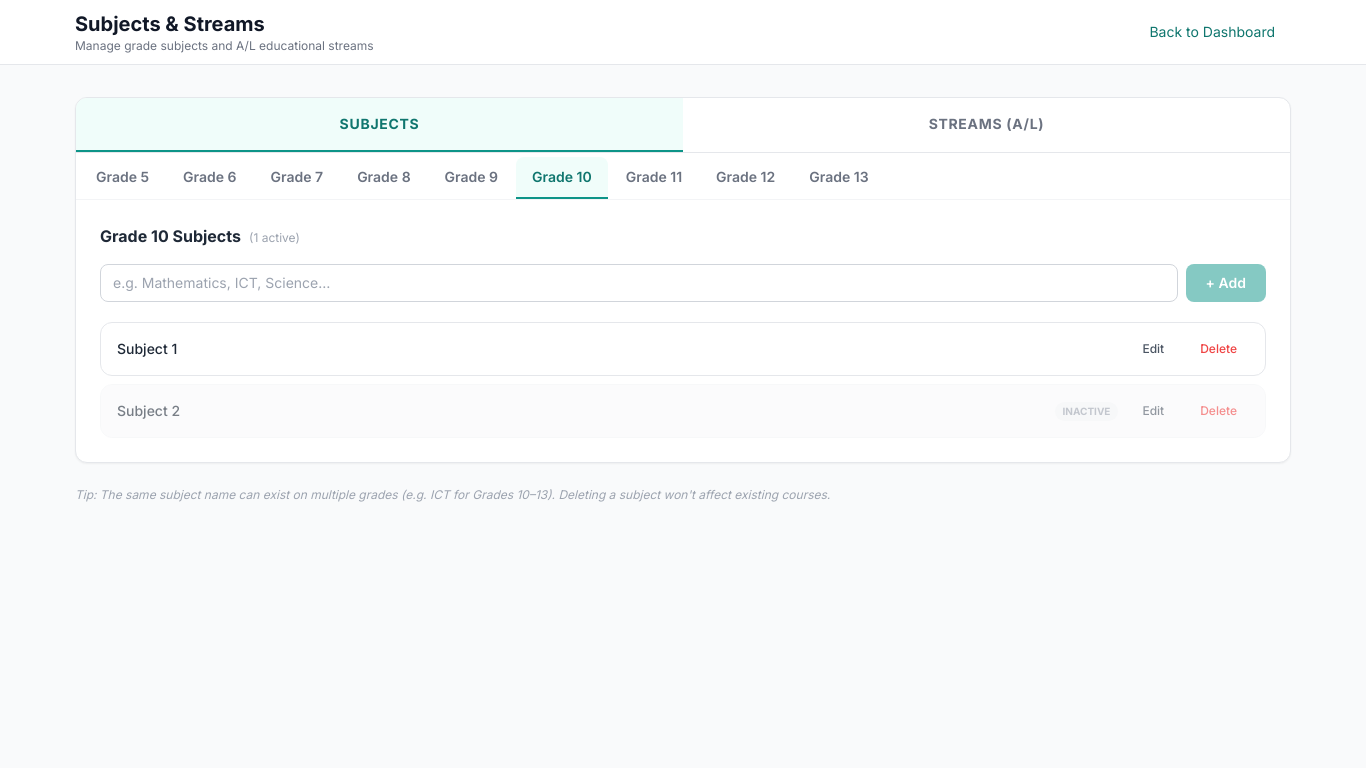
Scenario: Subjects & streams › subjects tab › shows a failed delete and a failed load
Check: the text "Subject 1" is shown, box [117, 340, 177, 357]
What coordinates should you click on to do the following:
click the button "Delete" in the row of "Subject 1"
I would click on:
 (1219, 349)
Its box is [1188, 335, 1249, 363].
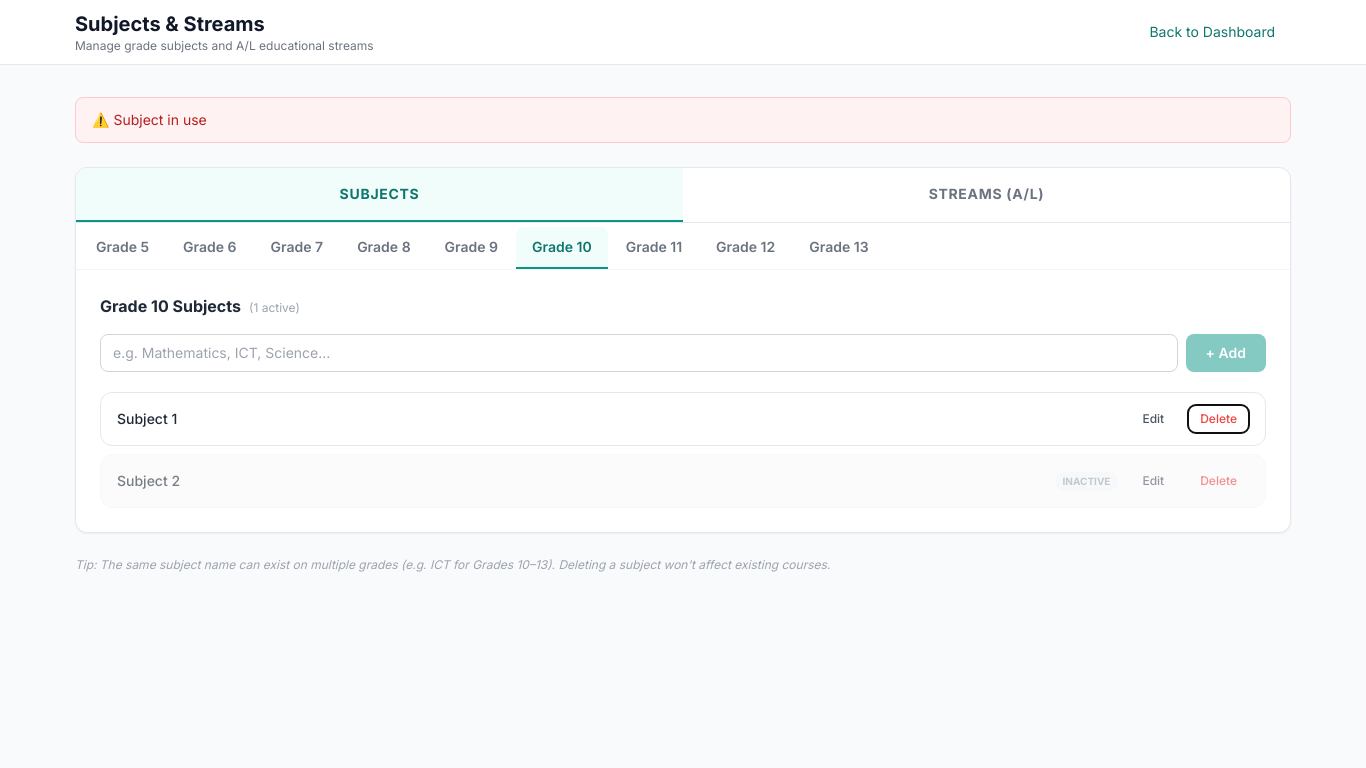
Check: the text "⚠️ Subject in use" is shown, box [75, 97, 1291, 143]
What coordinates should you click on to do the following:
click the button "Grade 5"
I would click on:
 (123, 248)
Its box is [80, 227, 165, 269].
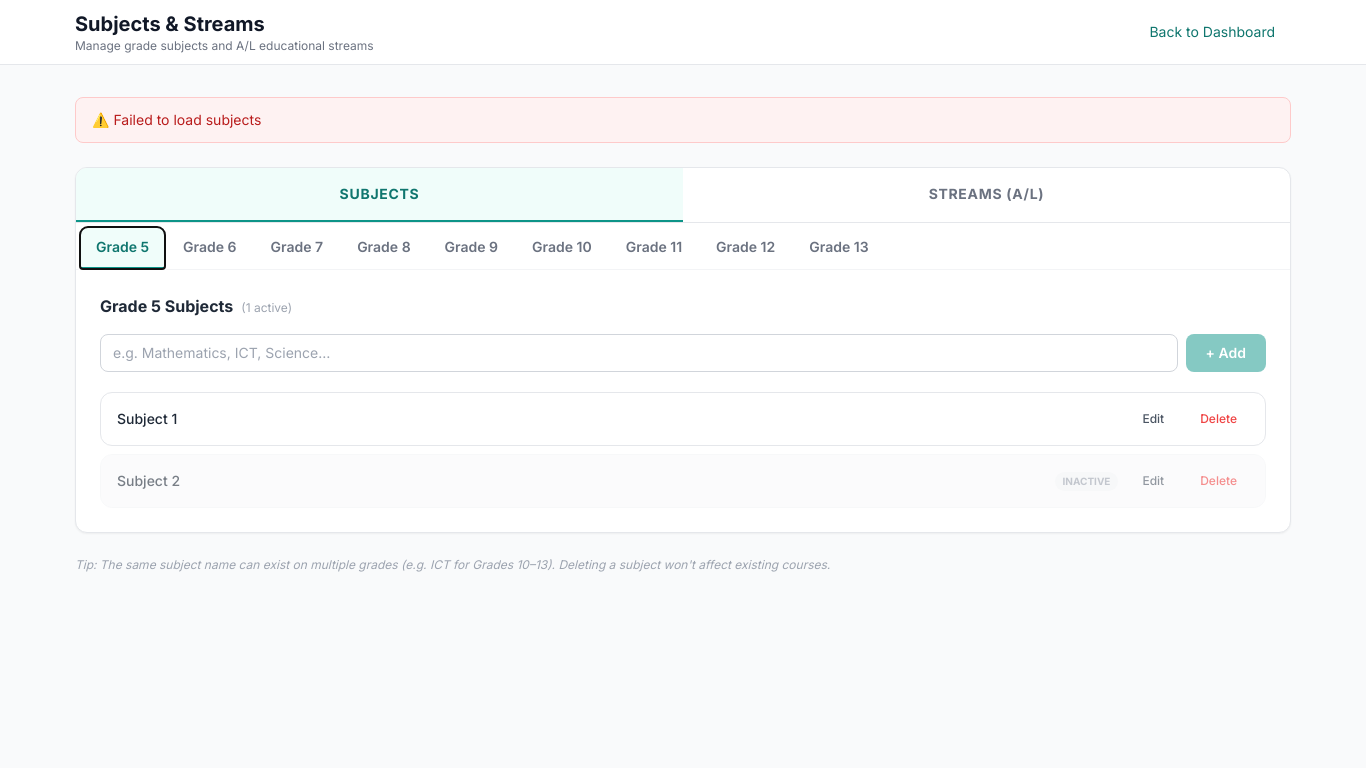
Check: the text "⚠️ Failed to load subjects" is shown, box [75, 97, 1291, 143]
